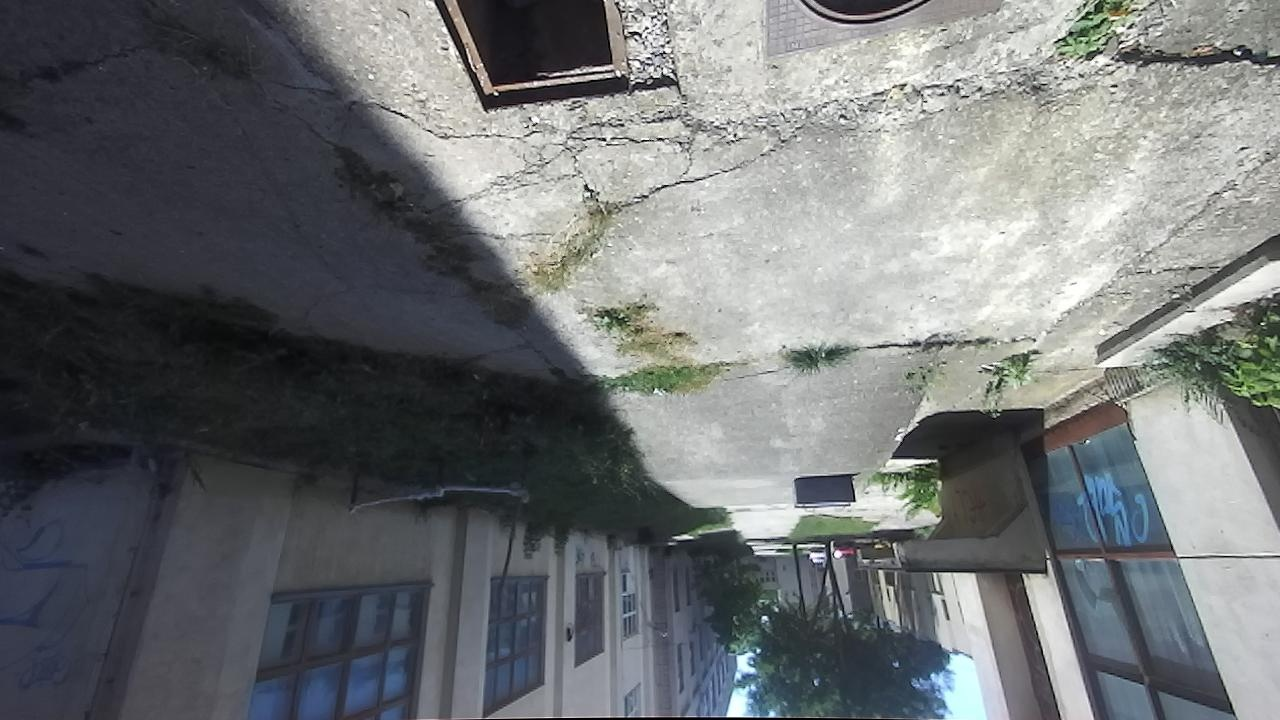drain: (433, 2, 677, 113), (800, 0, 933, 28)
